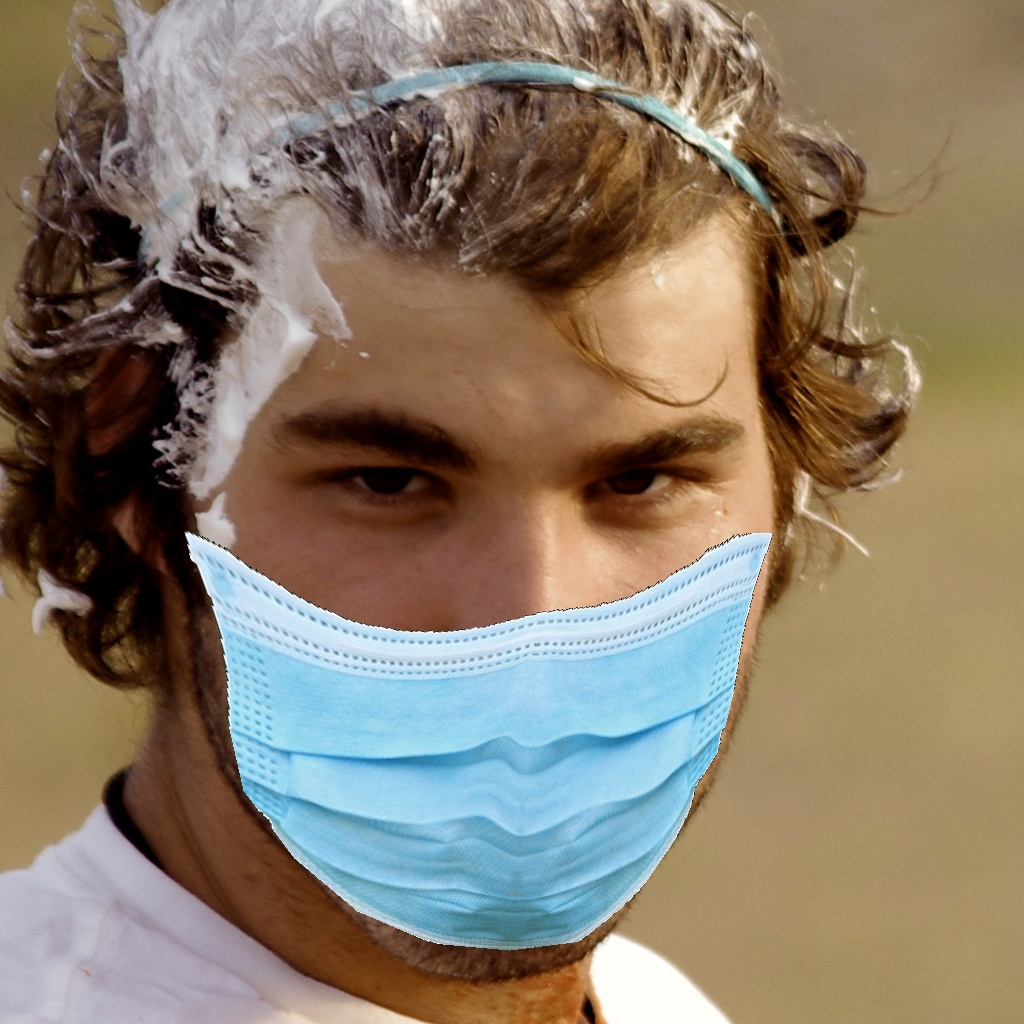Mask: (181, 329, 773, 962)
